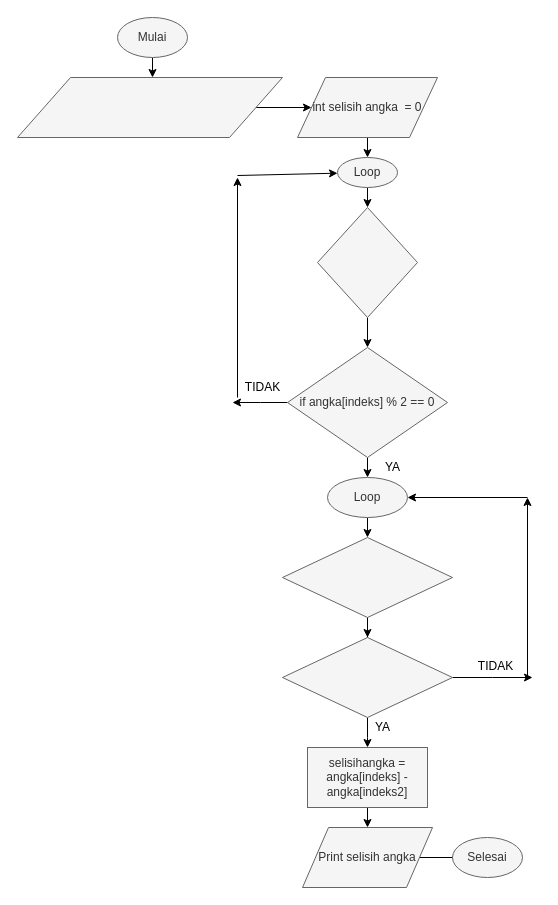
This 558x905 diagram has some shape labels left out. The shapes that lost their labels are listed below. From the top down, each one's box as (x1, y1, x2, y2) in pixels, then its label:
(16, 76, 282, 138): int[] angka = {82,12,41,38,19,26,9,48,20,55,8,32,3}
(316, 206, 418, 318): int indeks=0; indeks < angka; indeks++
(282, 536, 452, 618): int indeks2 = indeks + 1; indeks2 < angka.length; indeks2++
(282, 636, 452, 718): if (angka[indeks2] % 2 == 0)
